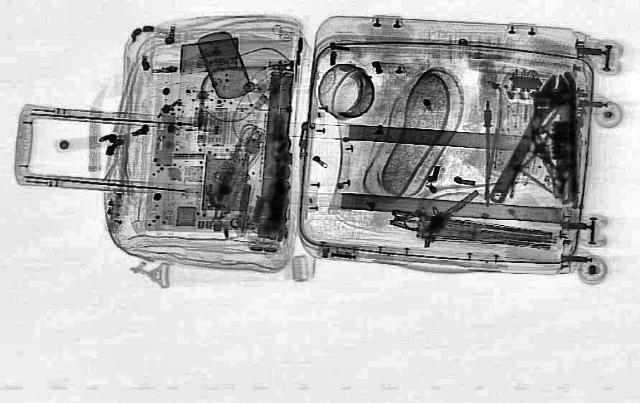Wrench: (474, 71, 582, 206)
